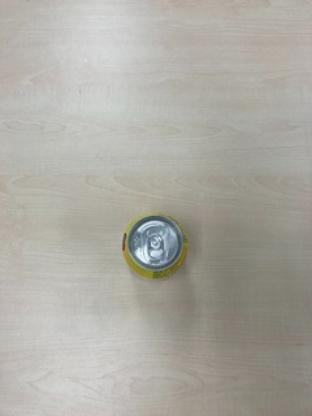Can: (121, 210, 189, 286)
